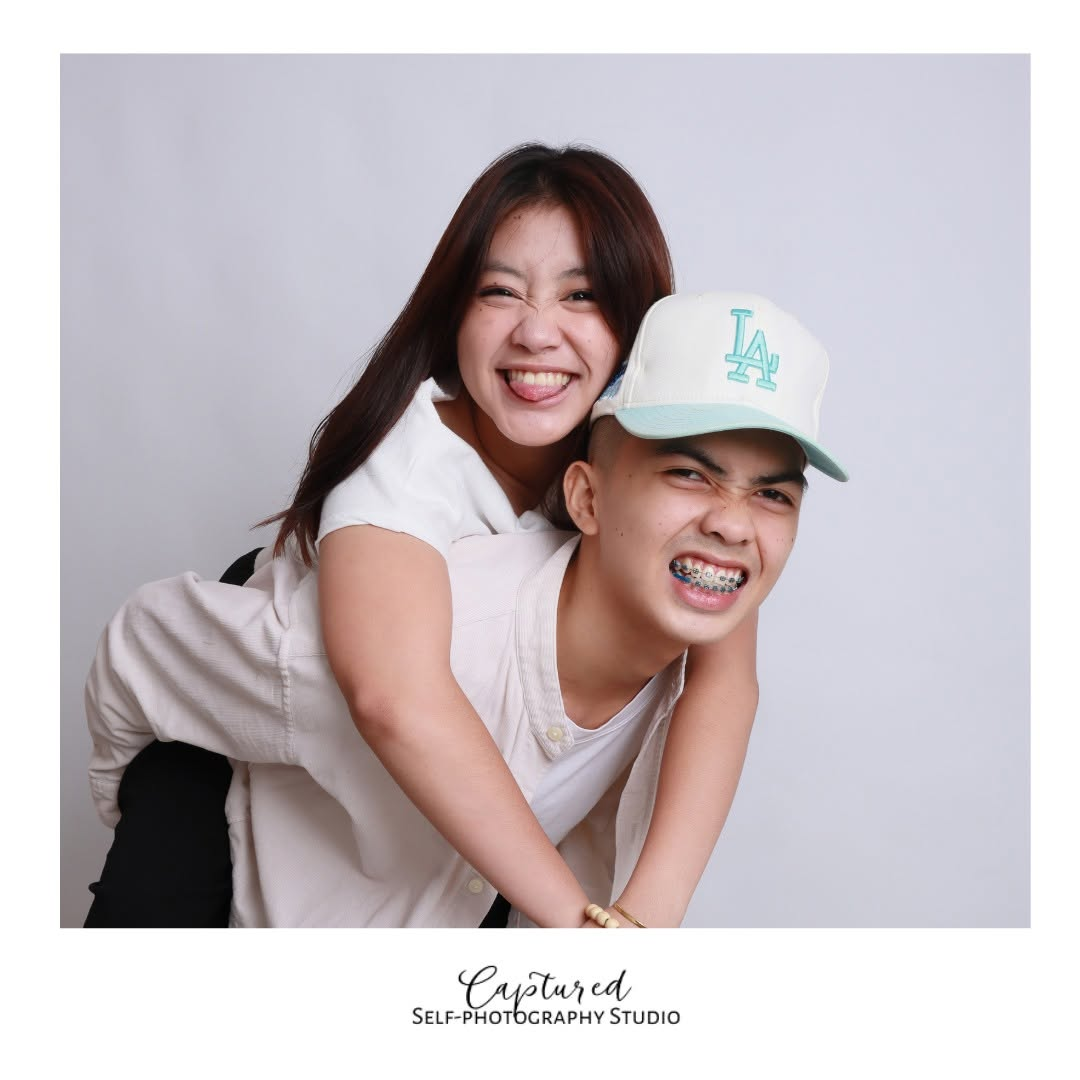couple: (191, 144, 852, 829)
